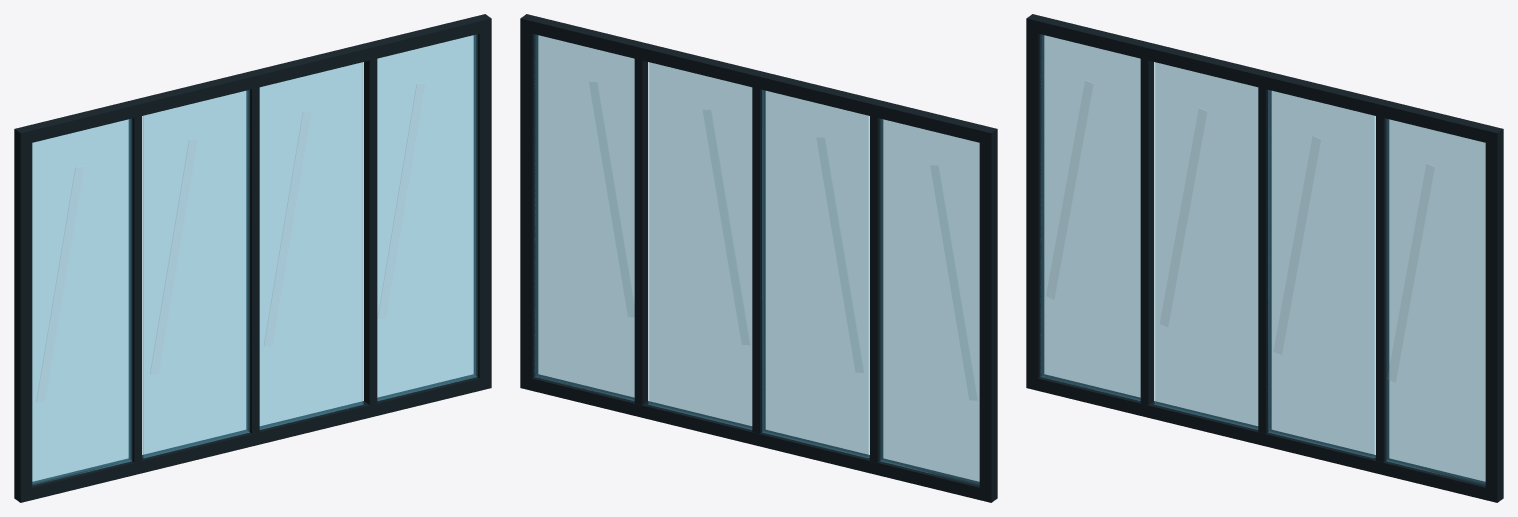
The model's file is window_4pan_2level.glb.
3 views of the same model, side by side, from view 1: azimuth 30°, elevation 25°; view 2: azimuth 150°, elevation 25°; view 3: azimuth 330°, elevation 25° (orthographic).
Visible parts, largest first — view 1: Glass_Pane_2, Glass_Pane_3, Glass_Pane_4, Glass_Pane_1, Frame_Top, Frame_Bottom, Frame_Left, Frame_Right, Mullion_3, Mullion_2, Mullion_1, Reflection_Stripe_1 (+3 smaller); view 2: Glass_Pane_2, Glass_Pane_3, Glass_Pane_4, Glass_Pane_1, Frame_Top, Frame_Bottom, Frame_Left, Frame_Right, Mullion_3, Mullion_2, Mullion_1, Reflection_Stripe_2 (+3 smaller); view 3: Glass_Pane_3, Glass_Pane_2, Glass_Pane_1, Glass_Pane_4, Frame_Top, Frame_Bottom, Frame_Right, Frame_Left, Mullion_1, Mullion_2, Mullion_3, Reflection_Stripe_2 (+3 smaller).
Part boxes in pixels (<box>): Glass_Pane_2: <box>142,90,249,458</box>; Glass_Pane_3: <box>259,62,363,429</box>; Glass_Pane_4: <box>377,34,477,400</box>; Glass_Pane_1: <box>32,119,131,484</box>; Frame_Top: <box>14,14,491,145</box>; Frame_Bottom: <box>14,374,491,502</box>; Frame_Left: <box>14,141,32,490</box>; Frame_Right: <box>473,31,491,378</box>; Mullion_3: <box>364,59,377,404</box>; Mullion_2: <box>246,87,259,433</box>; Mullion_1: <box>128,116,141,462</box>; Reflection_Stripe_1: <box>36,167,83,401</box>; Glass_Pane_2: <box>762,90,869,458</box>; Glass_Pane_3: <box>648,62,752,429</box>; Glass_Pane_4: <box>534,34,634,400</box>; Glass_Pane_1: <box>880,119,979,484</box>; Frame_Top: <box>520,14,997,145</box>; Frame_Bottom: <box>520,374,997,502</box>; Frame_Left: <box>979,141,997,490</box>; Frame_Right: <box>520,31,538,378</box>; Mullion_3: <box>634,59,647,404</box>; Mullion_2: <box>752,87,765,433</box>; Mullion_1: <box>870,116,883,462</box>; Reflection_Stripe_2: <box>817,138,862,372</box>; Glass_Pane_3: <box>1268,90,1375,458</box>; Glass_Pane_2: <box>1154,62,1258,429</box>; Glass_Pane_1: <box>1040,34,1140,400</box>; Glass_Pane_4: <box>1386,119,1485,484</box>; Frame_Top: <box>1026,14,1503,145</box>; Frame_Bottom: <box>1026,374,1503,502</box>; Frame_Right: <box>1485,141,1503,490</box>; Frame_Left: <box>1026,31,1044,378</box>; Mullion_1: <box>1140,59,1153,404</box>; Mullion_2: <box>1258,87,1271,433</box>; Mullion_3: <box>1376,116,1389,462</box>; Reflection_Stripe_2: <box>1160,108,1206,326</box>.
Size of the model in its own units: 4 by 3 by 0.09.
